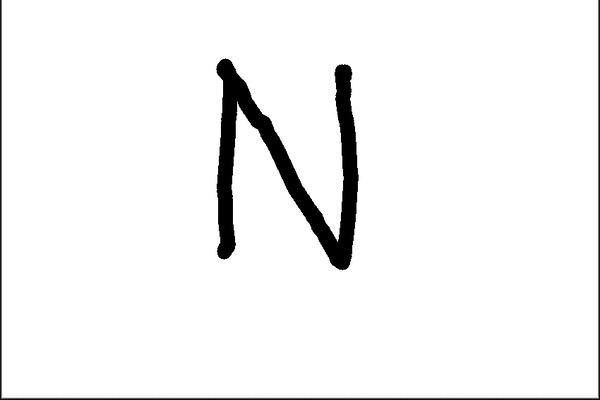N: (209, 51, 365, 275)
